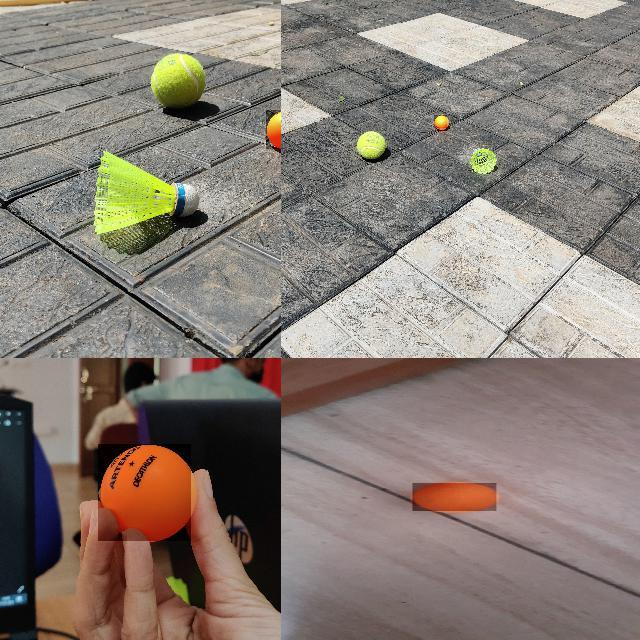ping-pong-ball: (98, 444, 192, 542), (412, 483, 498, 511), (266, 110, 280, 151), (434, 115, 448, 129)
